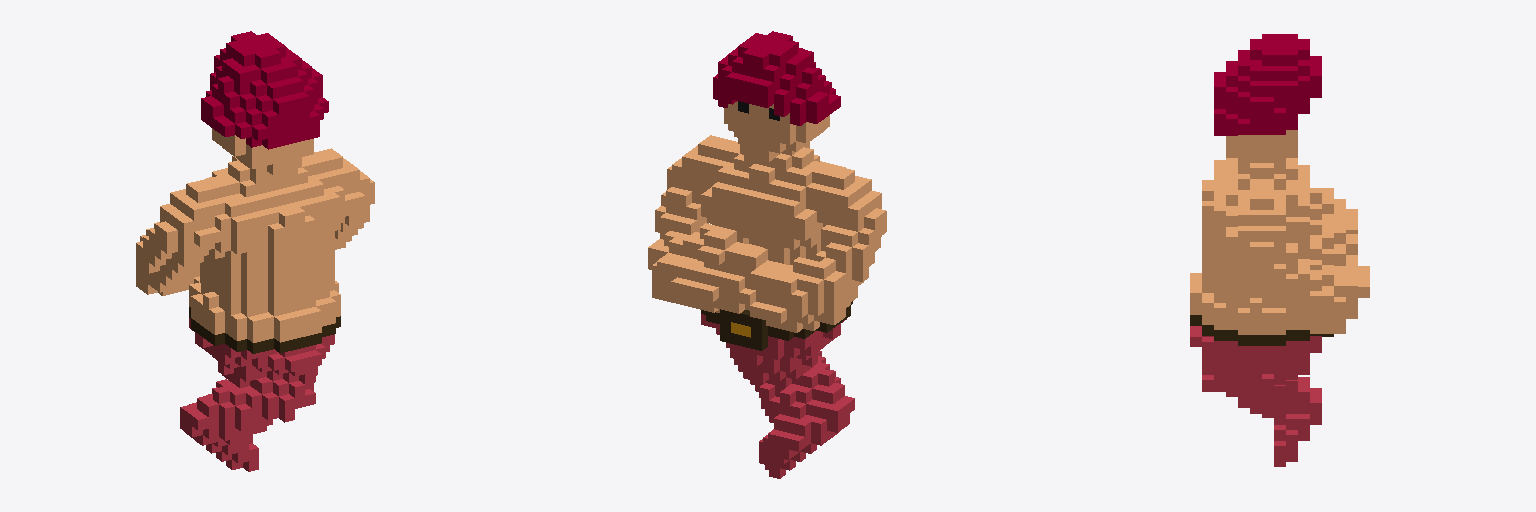
3 renders of one model, left to right at view 1: azimuth 30°, elevation 25°; view 2: azimuth 150°, elevation 25°; view 3: azimuth 270°, elevation 25°, orthographic.
Size of the model in its own units: 20 by 39 by 15.
Materials: 1 (1 with a texture image).